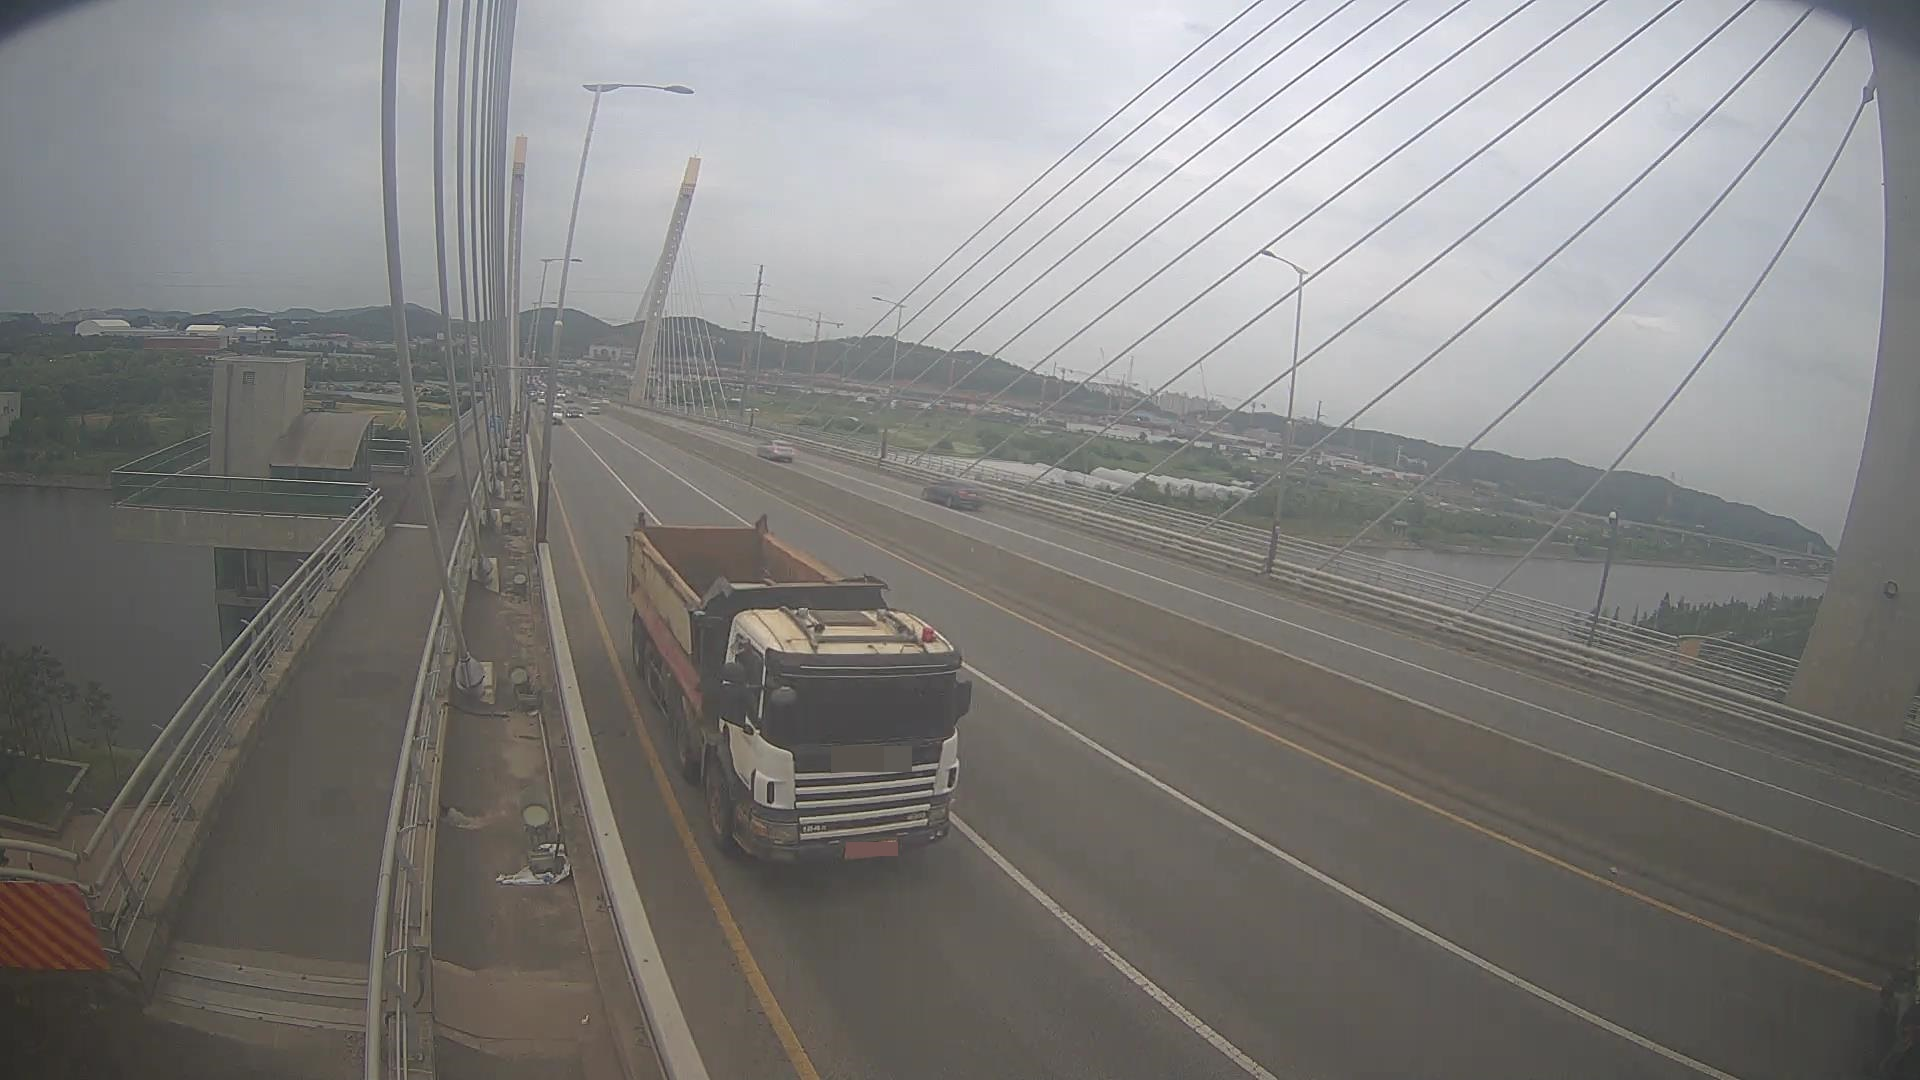정상차량: (624, 512, 971, 862)
